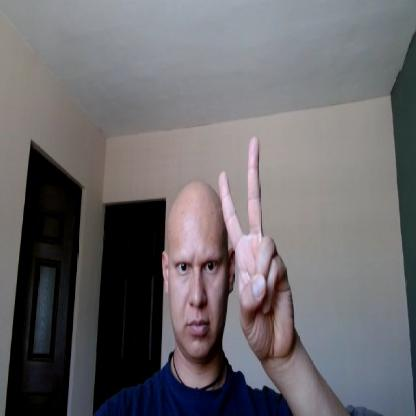V: (217, 136, 296, 361)
